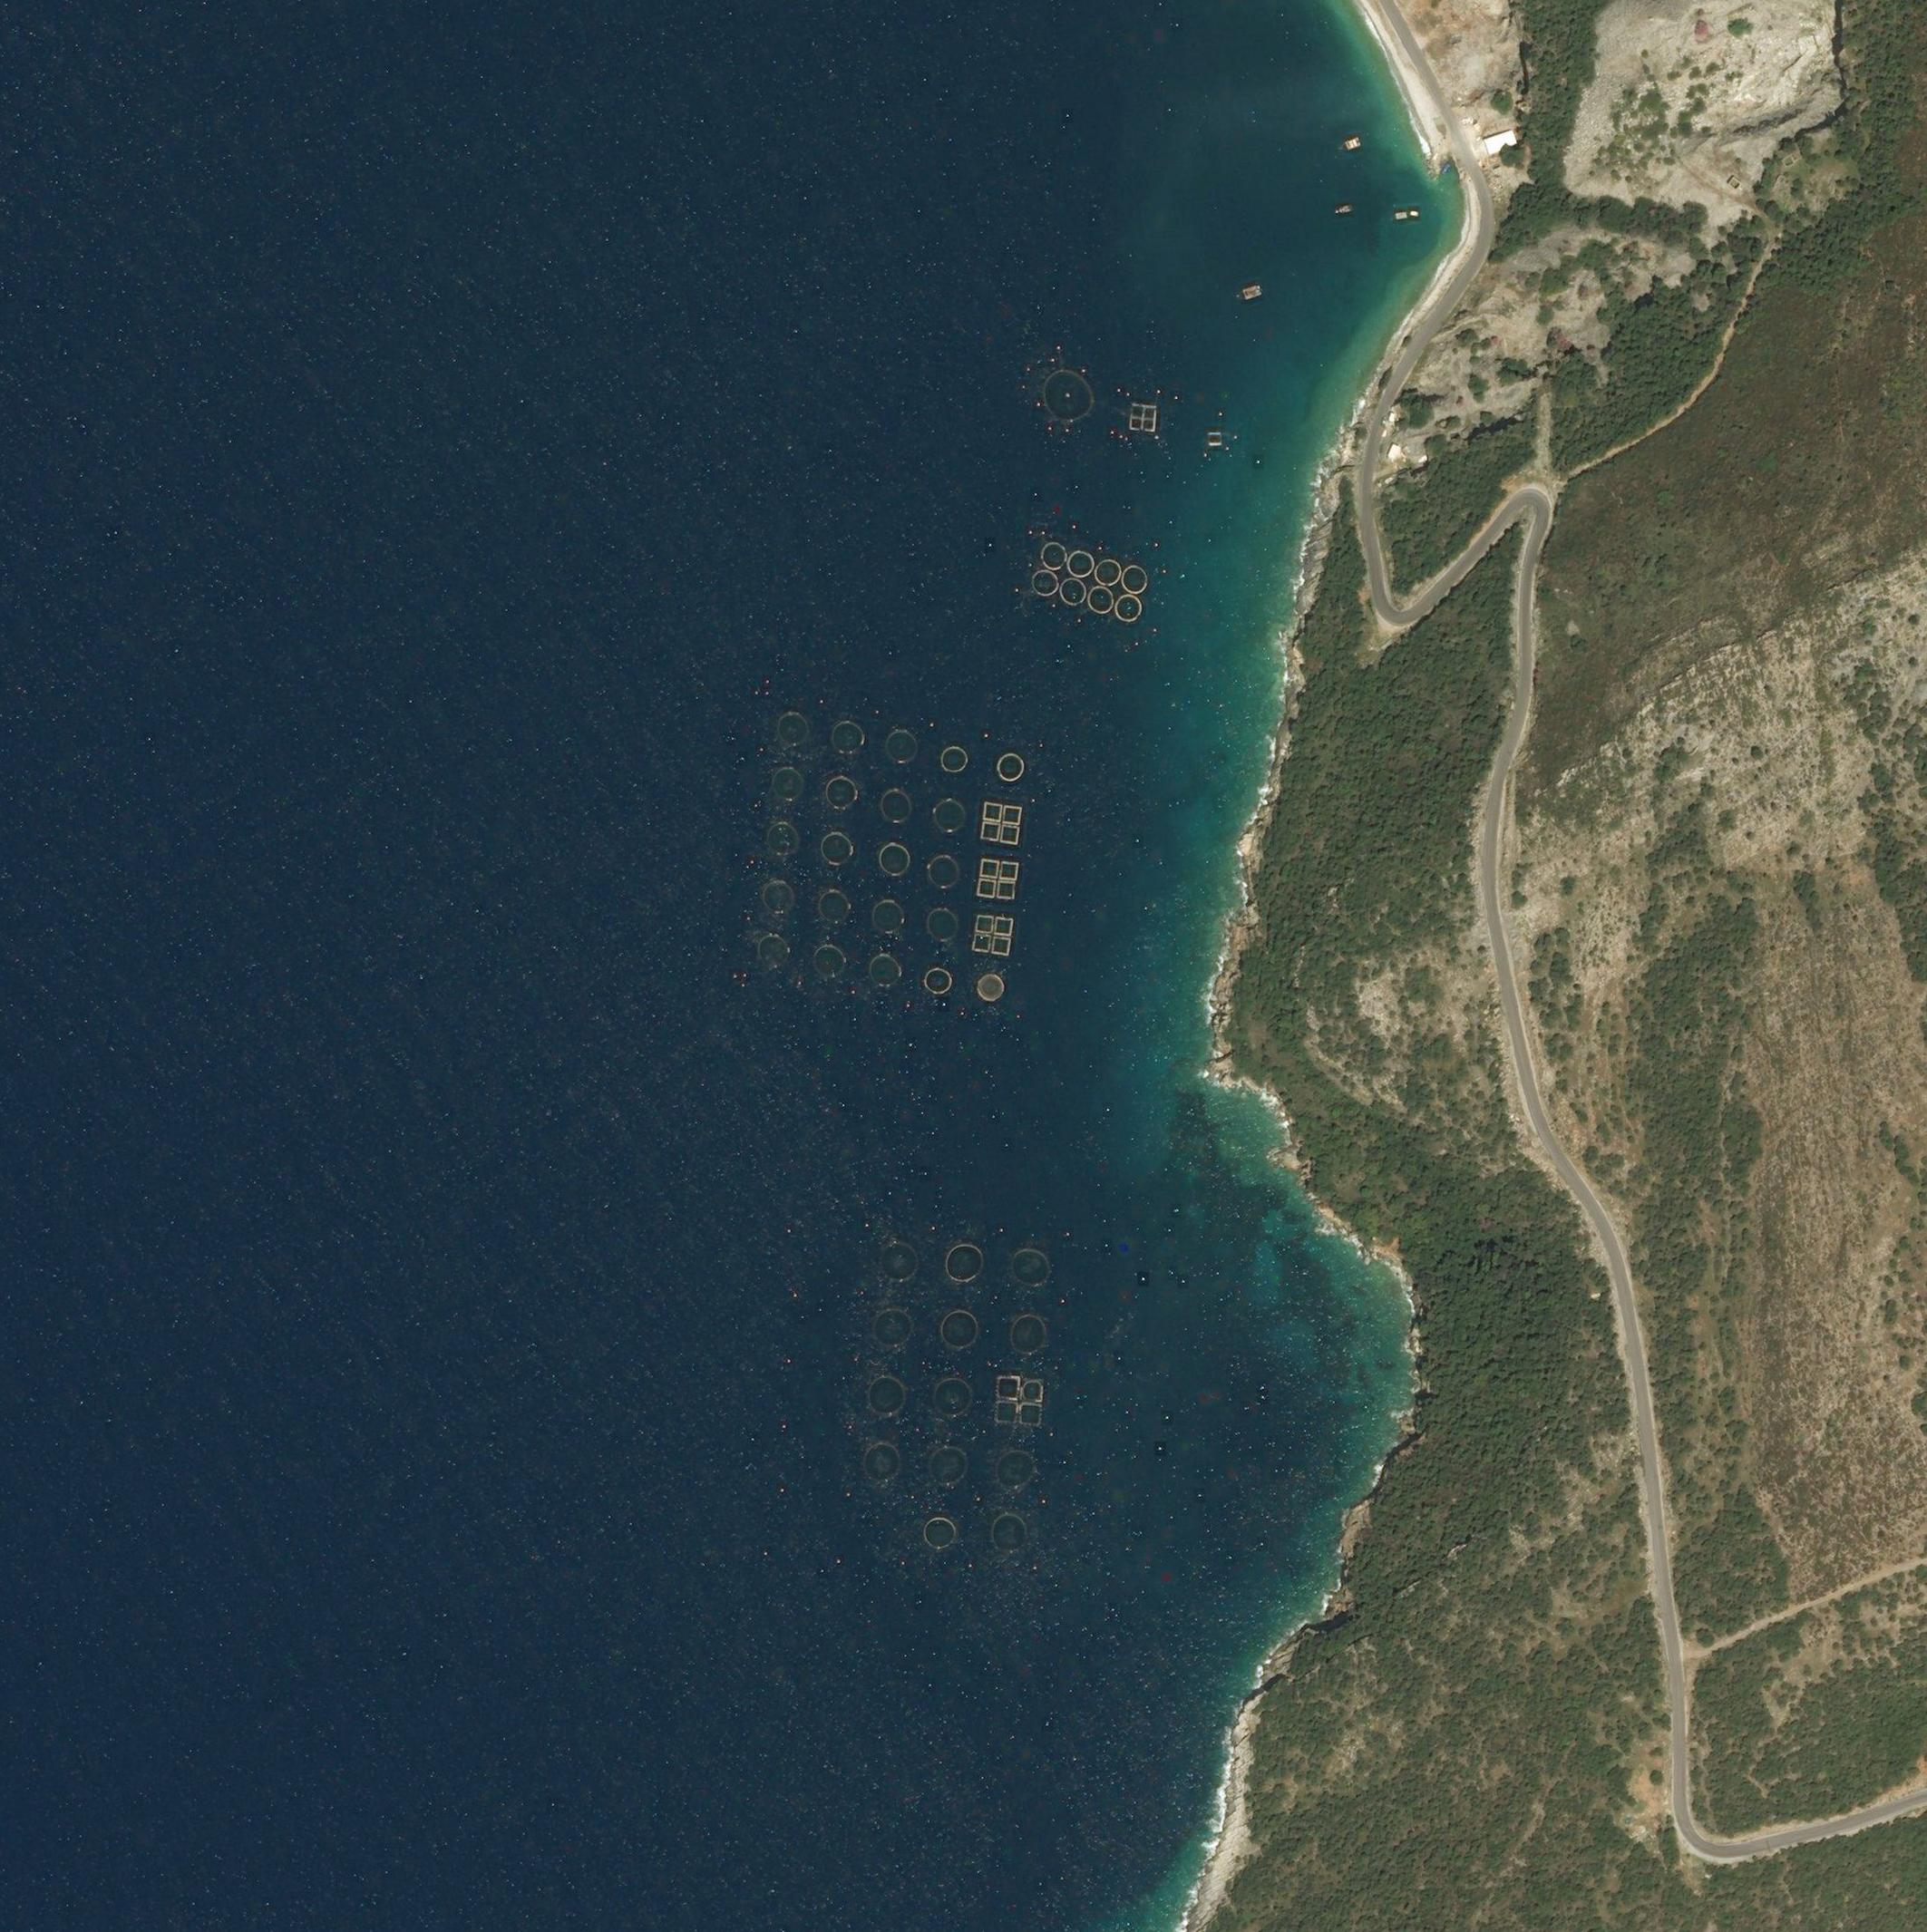c: (1043, 371, 1094, 422), (881, 1240, 921, 1284), (1008, 1313, 1048, 1357), (932, 1378, 974, 1417), (944, 1244, 985, 1283), (939, 1309, 979, 1348), (868, 1376, 907, 1417), (988, 1514, 1029, 1553), (872, 1311, 914, 1348), (993, 1450, 1036, 1487), (1011, 1249, 1050, 1288), (863, 1443, 900, 1482), (928, 1449, 967, 1486), (884, 729, 919, 766), (879, 789, 914, 824), (932, 799, 967, 835), (761, 879, 796, 914), (821, 831, 854, 866), (879, 842, 912, 877), (926, 856, 962, 889), (757, 933, 791, 969), (812, 944, 847, 977), (926, 907, 960, 942), (771, 768, 805, 801), (826, 776, 859, 810), (766, 822, 799, 856), (868, 955, 902, 988), (776, 711, 808, 746), (872, 900, 904, 935), (923, 1517, 956, 1549), (833, 720, 863, 755), (819, 889, 851, 921), (995, 750, 1025, 783), (976, 972, 1006, 1002), (1039, 542, 1068, 570), (1087, 586, 1115, 614), (925, 967, 953, 995), (1068, 549, 1094, 579), (1031, 570, 1059, 596), (1059, 577, 1085, 605), (1094, 559, 1122, 586), (1122, 565, 1149, 593), (1115, 595, 1142, 621), (941, 746, 967, 773)
